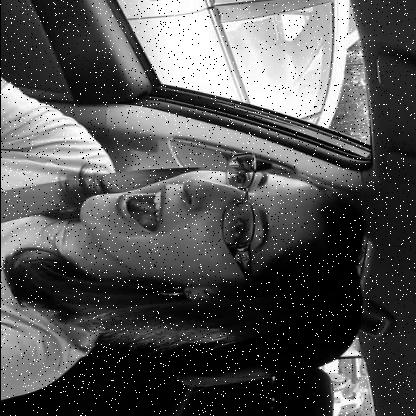seatbelt: (0, 157, 365, 329)
